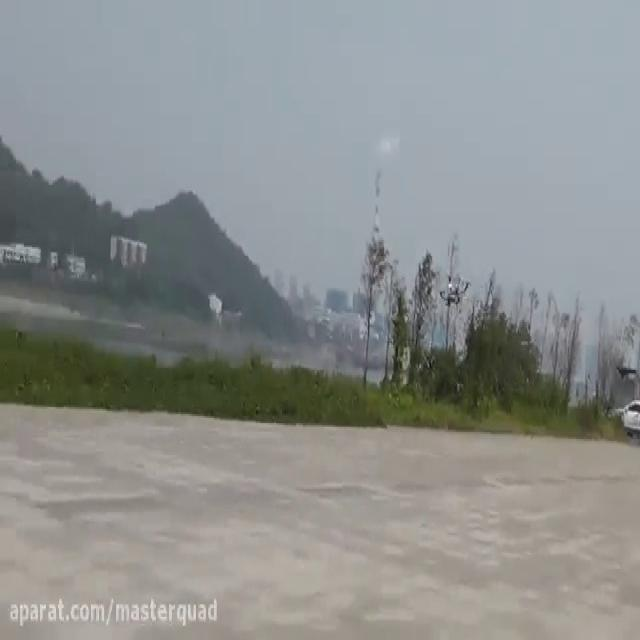drone: (436, 270, 473, 306)
